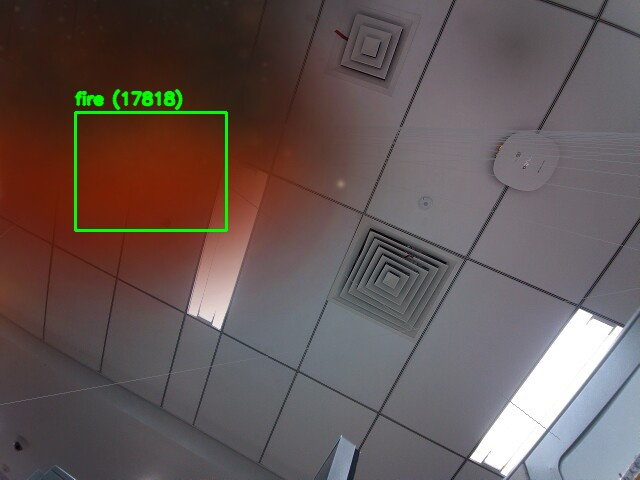fire: (75, 112, 226, 230)
